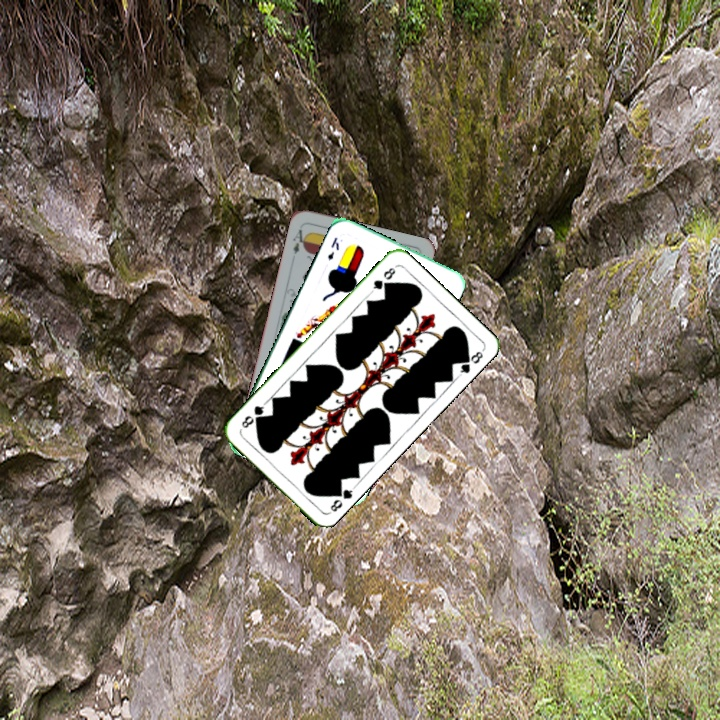EA: (288, 225, 310, 257)
EK: (324, 233, 342, 262)
G8: (325, 483, 357, 516), (367, 263, 398, 295)
